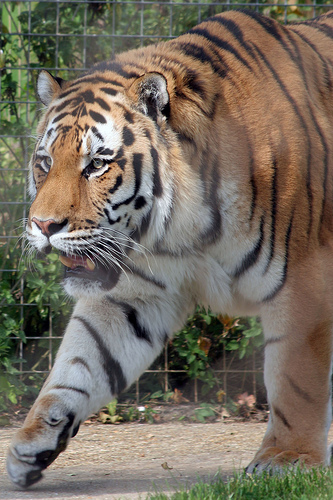Tigre: (13, 23, 333, 426)
